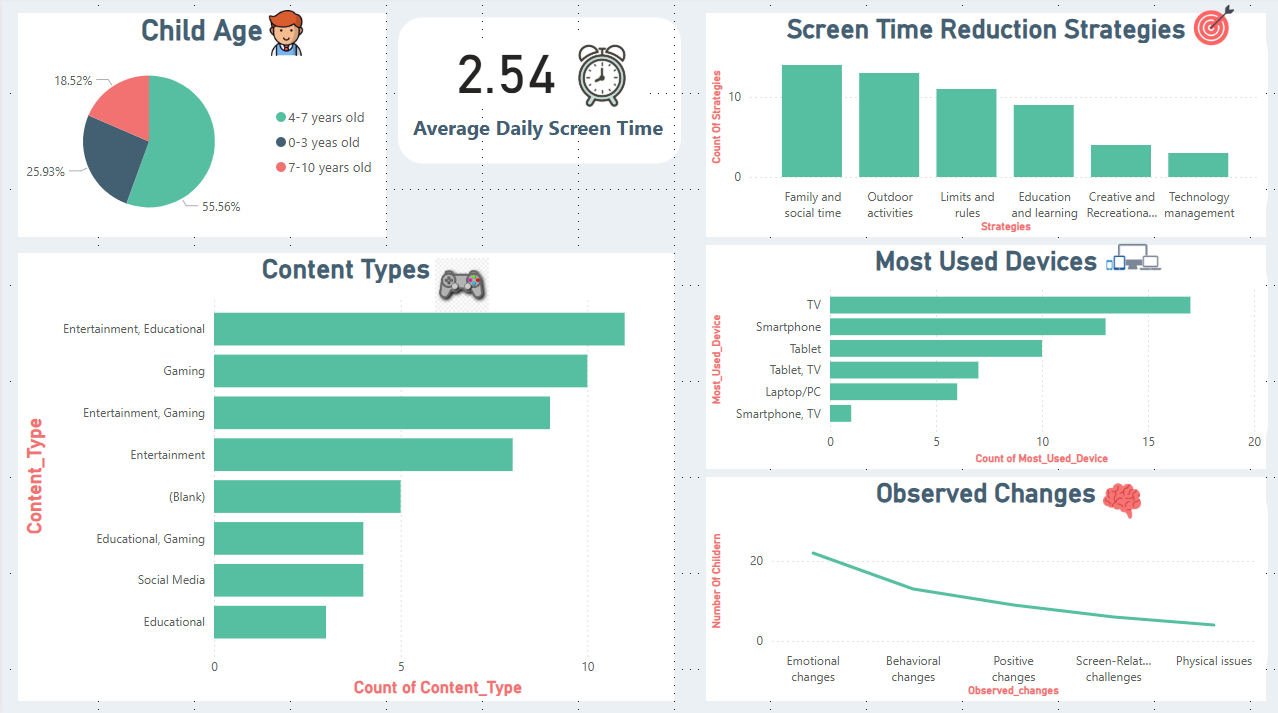

The dashboard page shown, as its layout file describes it:
{"tool":"powerbi","page":{"name":"Page 1","canvas":[1280,720],"ordinal":0},"visuals":[{"type":"pieChart","title":" Child Age","fields":{"Y":["CountNonNull(screen_Habits.Child_s_Age)"],"Category":["count_age_child.Child_s_Age"]},"box":[16,16,368,224],"z":0},{"type":"clusteredColumnChart","title":"Screen Time Reduction Strategies","fields":{"Category":["strategies.Strategies_Reducing_Screen_Time_catagory"],"Y":["CountNonNull(screen_Habits.Strategies_Reducing_Screen_Time_catagory)"]},"box":[704,16,560,224],"z":1},{"type":"card","fields":{"Values":["content_type.AverageScreenTime"]},"box":[400,48,208,64],"z":2},{"type":"image","box":[544,32,112,96],"z":3},{"type":"actionButton","box":[400,112,272,32],"z":4},{"type":"clusteredBarChart","title":"Content Types","fields":{"Category":["content_type.Content_Type"],"Y":["CountNonNull(screen_Habits.Content_Type)"]},"box":[16,256,656,448],"z":5},{"type":"barChart","title":"Most Used Devices","fields":{"Category":["most_used_device.Most_Used_Device"],"Y":["CountNonNull(screen_Habits.Most_Used_Device)"]},"box":[704,248,560,224],"z":6},{"type":"lineChart","title":" Observed Changes","fields":{"Category":["screen_Habits.Observed_changes"],"Y":["content_type.numberOfChildren"]},"box":[704,480,560,224],"z":7},{"type":"image","box":[1096,480,48,48],"z":8},{"type":"image","box":[1096,224,72,72],"z":9},{"type":"image","box":[1184,0,56,56],"z":10},{"type":"image","box":[424,256,72,64],"z":11},{"type":"image","box":[256,8,56,56],"z":12}]}

Visuals, with their boxes in screenshot pixels (x1, y1, x2, y2), scaled from the page's 1280x720 canvas onto the 1278x713 screenshot:
" Child Age" pieChart: [x1=16, y1=16, x2=383, y2=238]
"Screen Time Reduction Strategies" clusteredColumnChart: [x1=703, y1=16, x2=1262, y2=238]
card - content_type.AverageScreenTime: [x1=399, y1=48, x2=607, y2=111]
image: [x1=543, y1=32, x2=655, y2=127]
actionButton: [x1=399, y1=111, x2=671, y2=143]
"Content Types" clusteredBarChart: [x1=16, y1=254, x2=671, y2=697]
"Most Used Devices" barChart: [x1=703, y1=246, x2=1262, y2=467]
" Observed Changes" lineChart: [x1=703, y1=475, x2=1262, y2=697]
image: [x1=1094, y1=475, x2=1142, y2=523]
image: [x1=1094, y1=222, x2=1166, y2=293]
image: [x1=1182, y1=0, x2=1238, y2=55]
image: [x1=423, y1=254, x2=495, y2=317]
image: [x1=256, y1=8, x2=312, y2=63]
